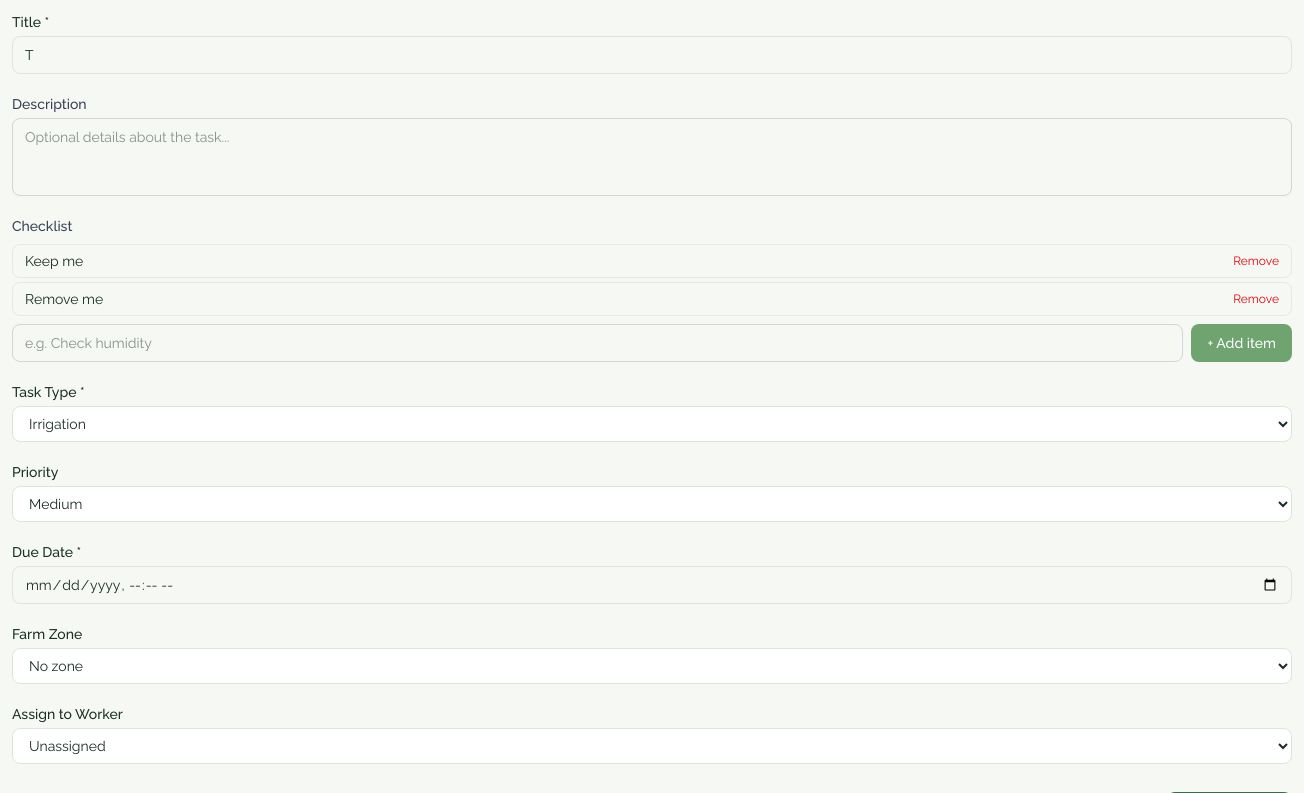
TaskForm – checklist section › removes only the selected checklist item
The image size is (1304, 793).
Click the 2nd button "Remove" at (1256, 299), box [1233, 291, 1279, 307]
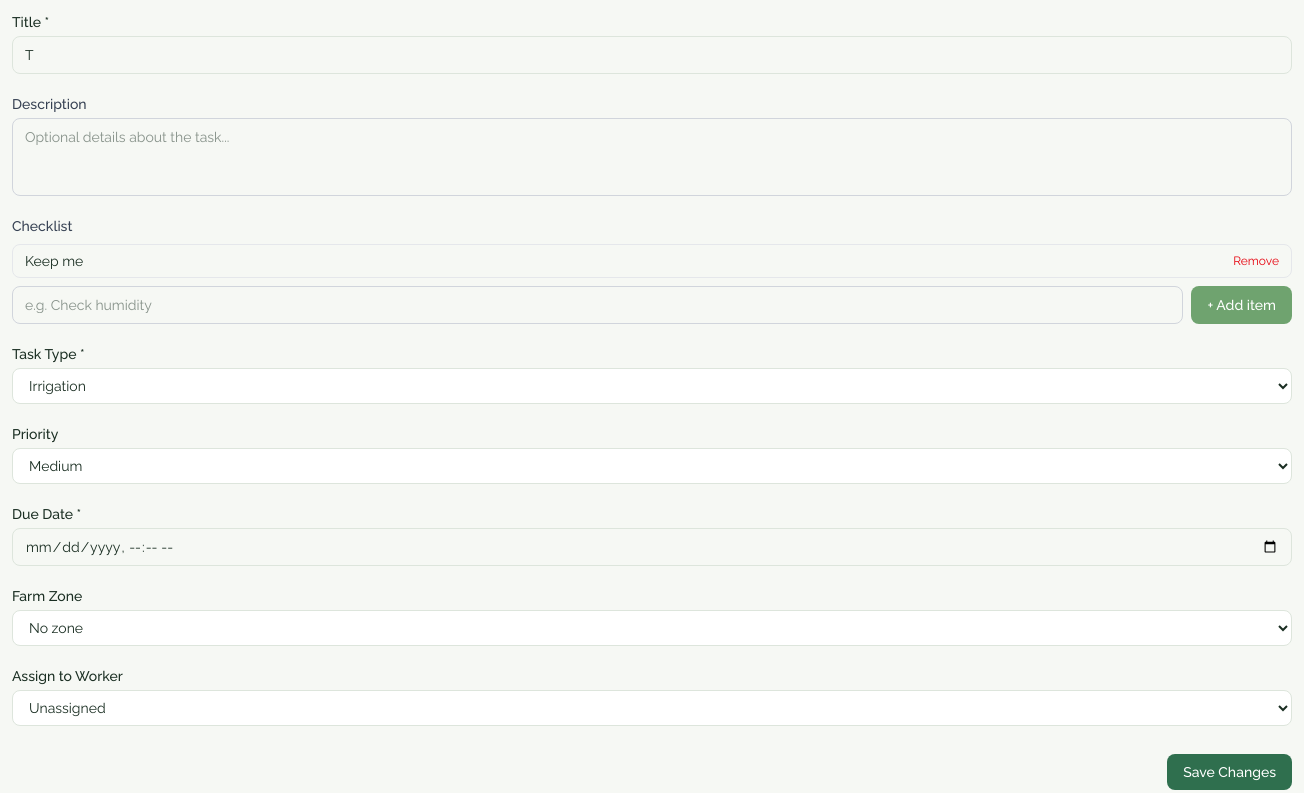
expect the field named "Edit item" holds "Keep me": met, box [25, 251, 1225, 271]
expect the number of fields named "Edit item" is 1: met, box [25, 251, 1225, 271]
